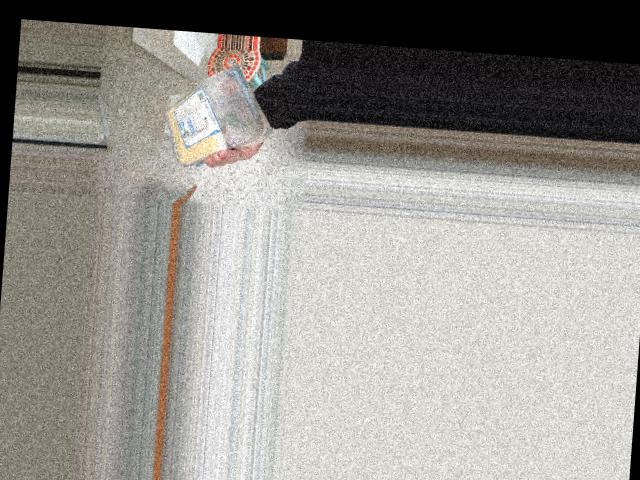cheese: (155, 59, 262, 159)
